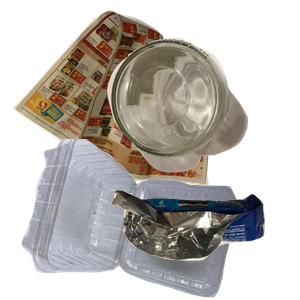glass: (105, 36, 300, 201)
paper: (10, 10, 217, 189)
plastic: (19, 139, 249, 300)
trash: (109, 187, 300, 300)
